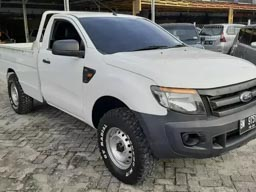plat: (241, 115, 255, 134)
